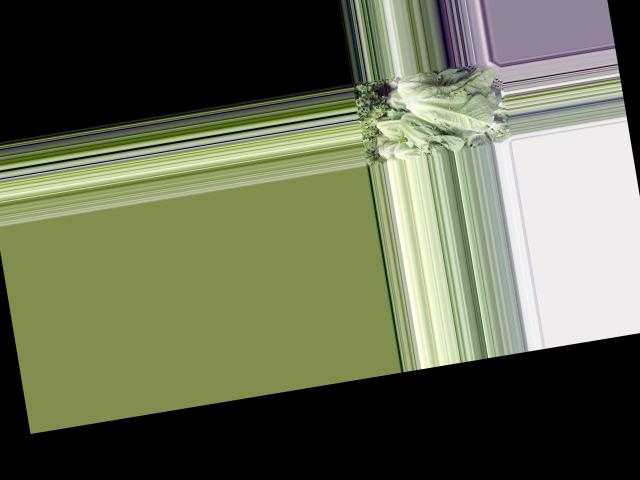lettuce: (396, 105, 467, 156)
